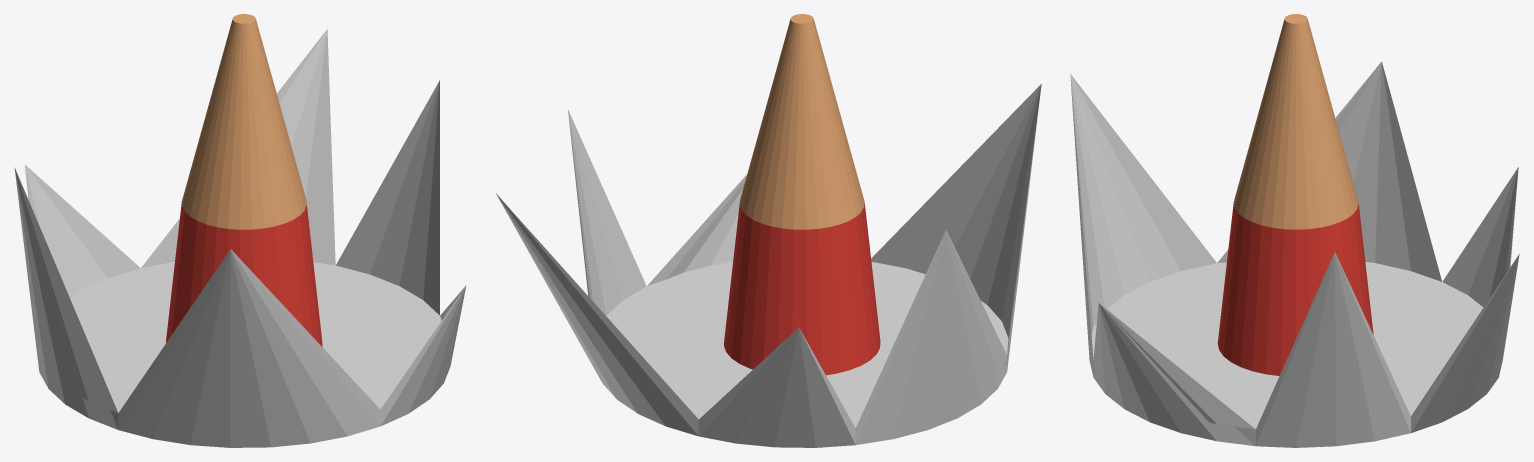
File: Bullet VFX.fbx
3 views of the same model, side by side, from view 1: azimuth 30°, elevation 25°; view 2: azimuth 150°, elevation 25°; view 3: azimuth 270°, elevation 25° (orthographic).
Visible parts, largest first — view 1: Cylinder.001, Cylinder; view 2: Cylinder.001, Cylinder; view 3: Cylinder.001, Cylinder.
Part boxes in pixels (x1=…): Cylinder.001: x1=14, y1=29, x2=466, y2=447; Cylinder: x1=166, y1=14, x2=322, y2=346; Cylinder.001: x1=496, y1=84, x2=1041, y2=447; Cylinder: x1=724, y1=14, x2=880, y2=375; Cylinder.001: x1=1070, y1=61, x2=1519, y2=447; Cylinder: x1=1217, y1=14, x2=1373, y2=375.
Bounding box in the file's own units: 587 × 478 × 569.
